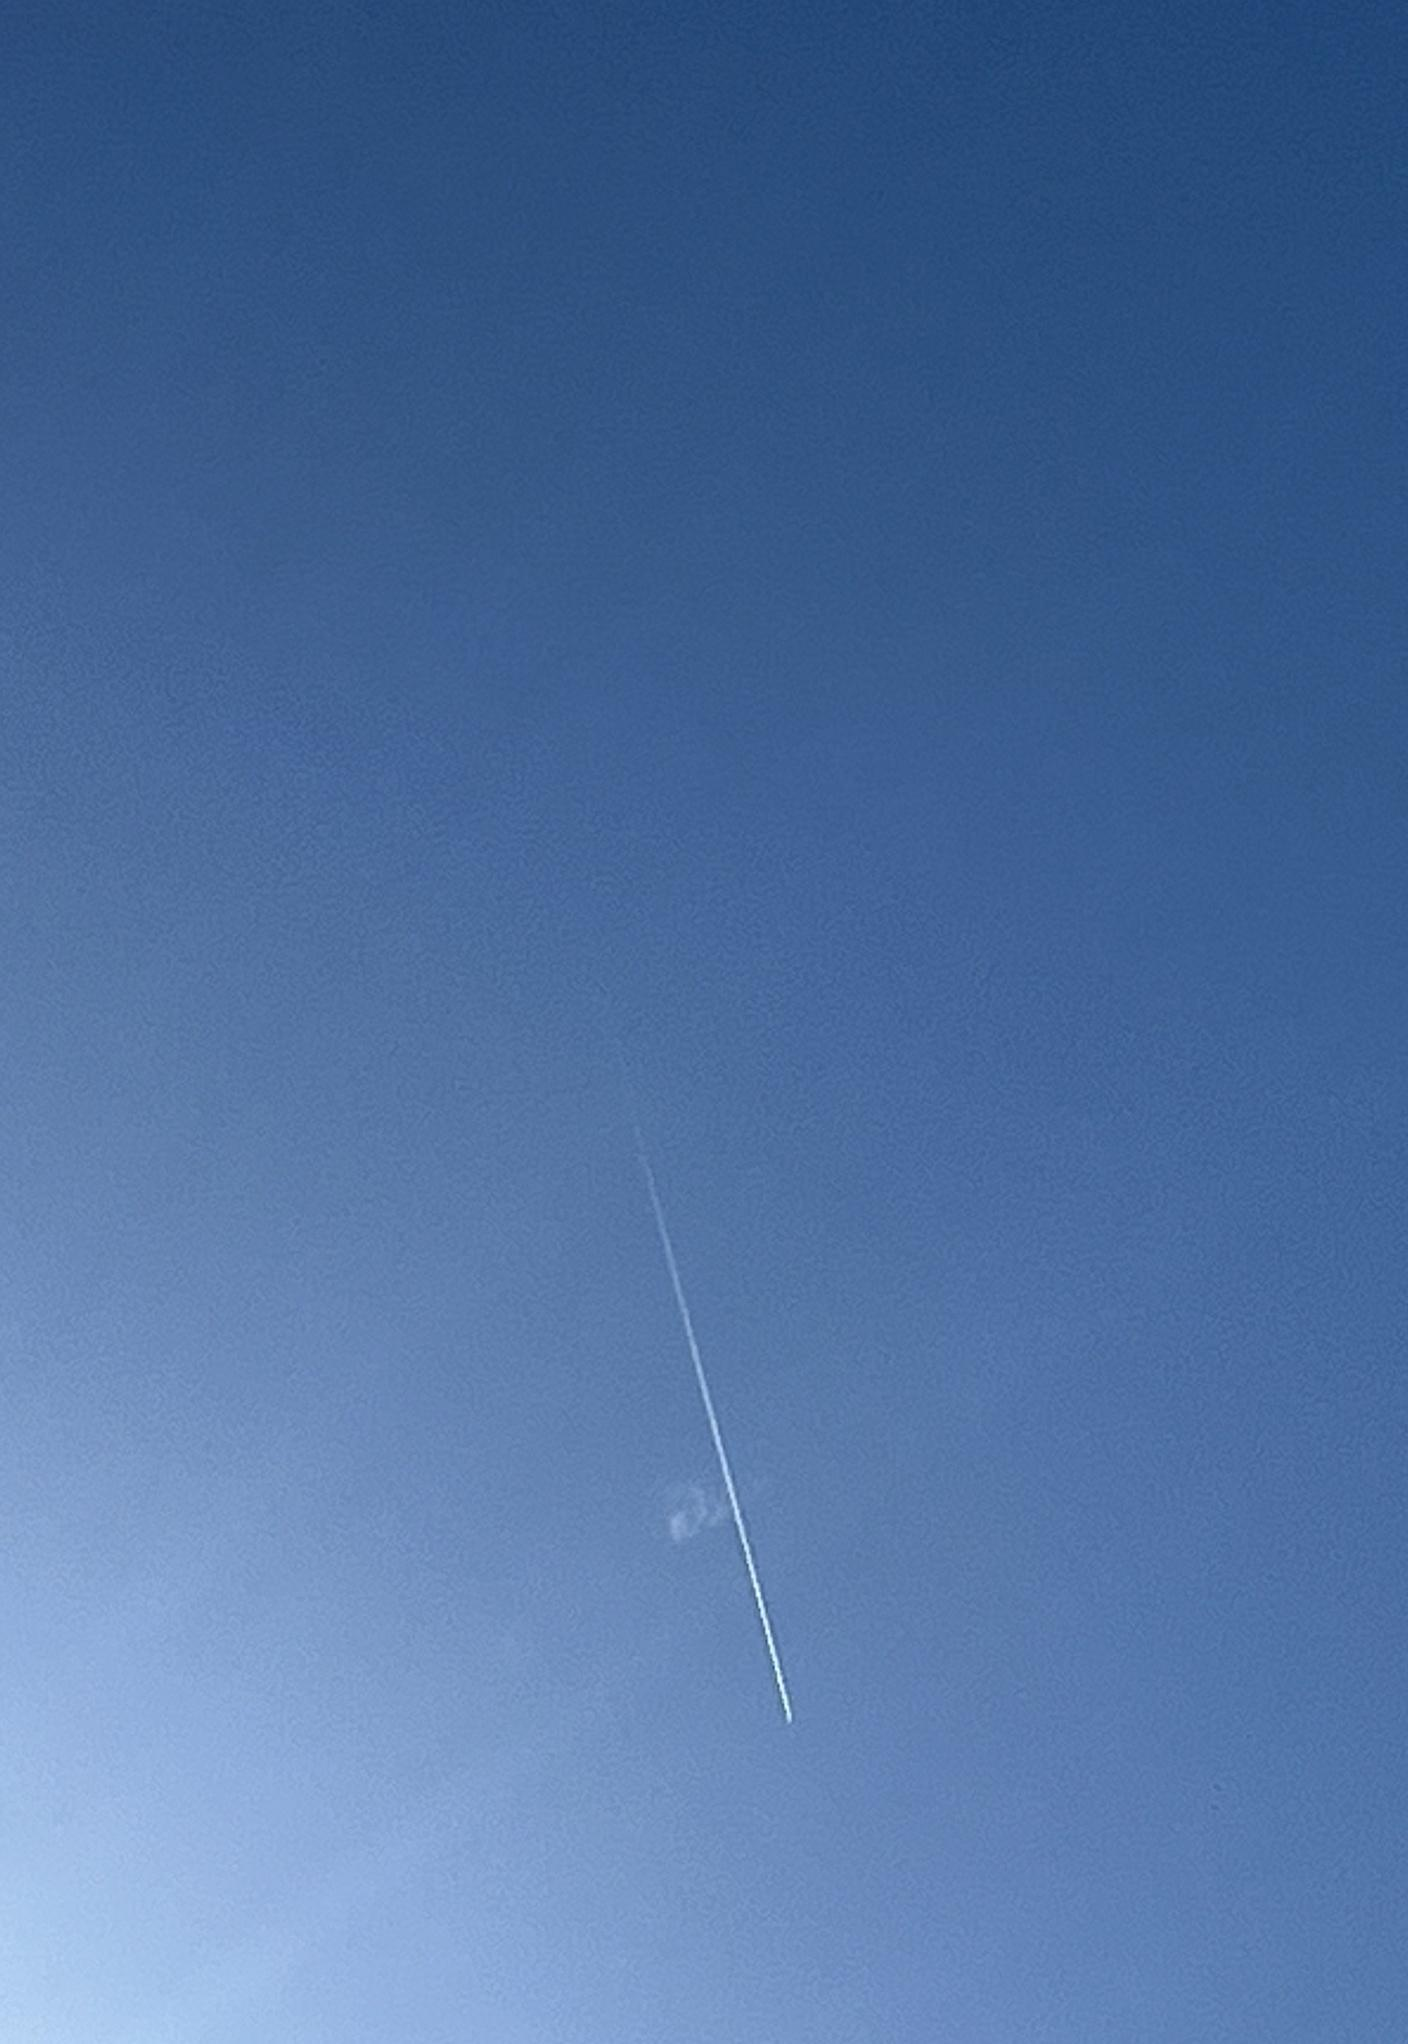Plane: (567, 1073, 852, 1743)
